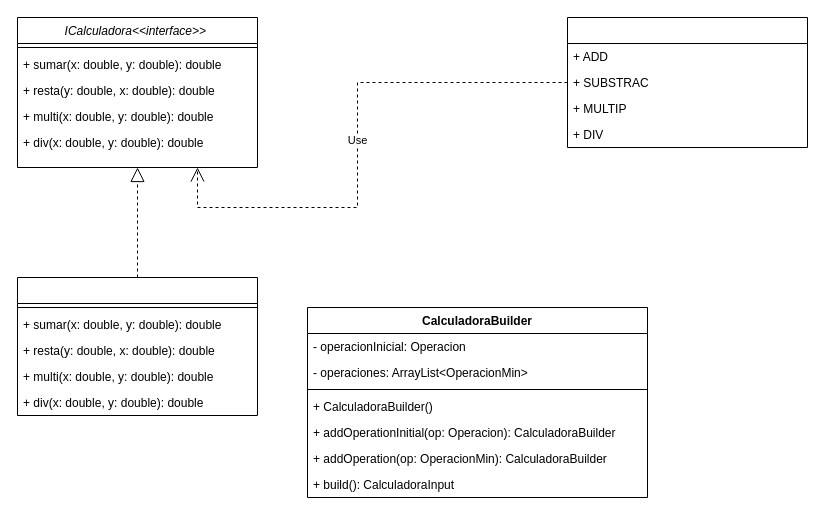
The diagram is 825 pixels wide and 518 high, and some of its shapes have lost their labels. The box of each missing label's shape, as (x1, y1, x2, y2) in pixels:
Calculadora: (16, 276, 258, 416)
OperationType «enumeration»: (566, 16, 808, 148)
